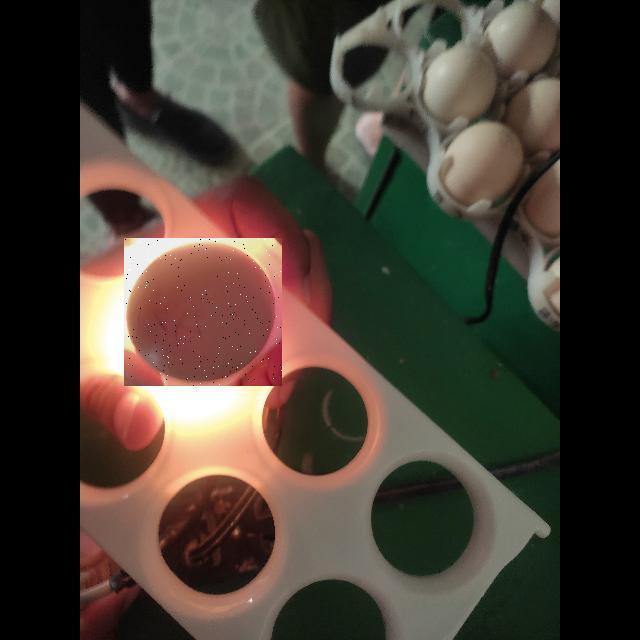Fertile: (124, 238, 282, 386)
